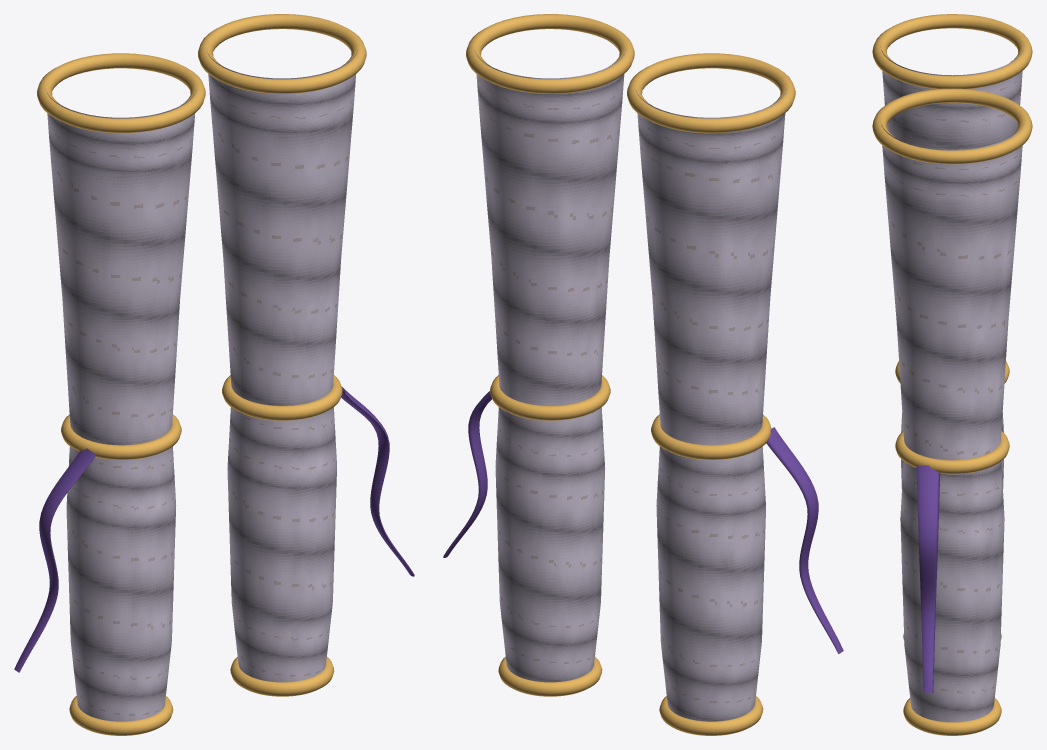
Rendered from leg-wraps.glb.
3 renders of one model, left to right at view 1: azimuth 30°, elevation 25°; view 2: azimuth 150°, elevation 25°; view 3: azimuth 270°, elevation 25°, orthographic. The views are drawn at different scales.
Parts seen in each view (by area): view 1: wraps, bands, ribbons; view 2: wraps, bands, ribbons; view 3: wraps, bands, ribbons.
Boxes of the visible parts, left/top/right/bottom form: wraps: left=45, top=48, right=357, bottom=721; bands: left=37, top=14, right=366, bottom=735; ribbons: left=14, top=387, right=414, bottom=672; wraps: left=474, top=48, right=786, bottom=721; bands: left=466, top=14, right=795, bottom=735; ribbons: left=443, top=391, right=843, bottom=653; wraps: left=880, top=45, right=1024, bottom=722; bands: left=872, top=14, right=1032, bottom=735; ribbons: left=916, top=465, right=940, bottom=692.
Bounding box in the file's own units: 1.09 × 1.65 × 0.4.
Materials: 3 (1 with a texture image).
